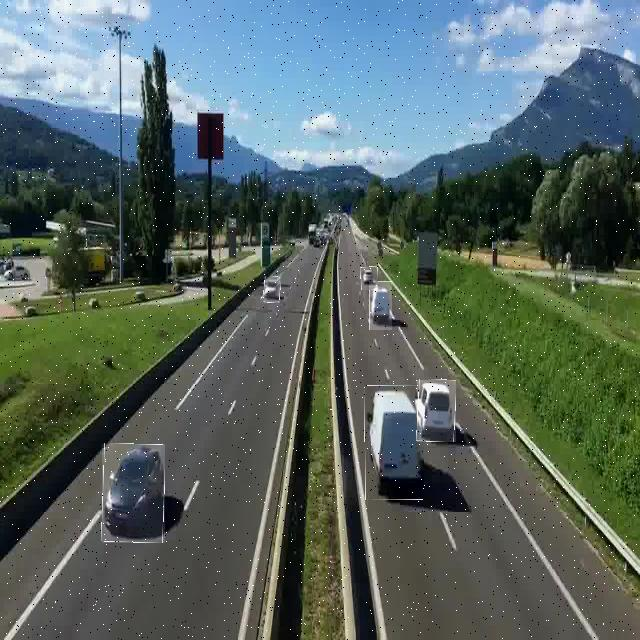Car: (365, 386, 424, 500), (102, 444, 165, 543), (417, 380, 456, 442), (369, 281, 392, 330), (264, 277, 280, 303), (361, 267, 378, 290)
